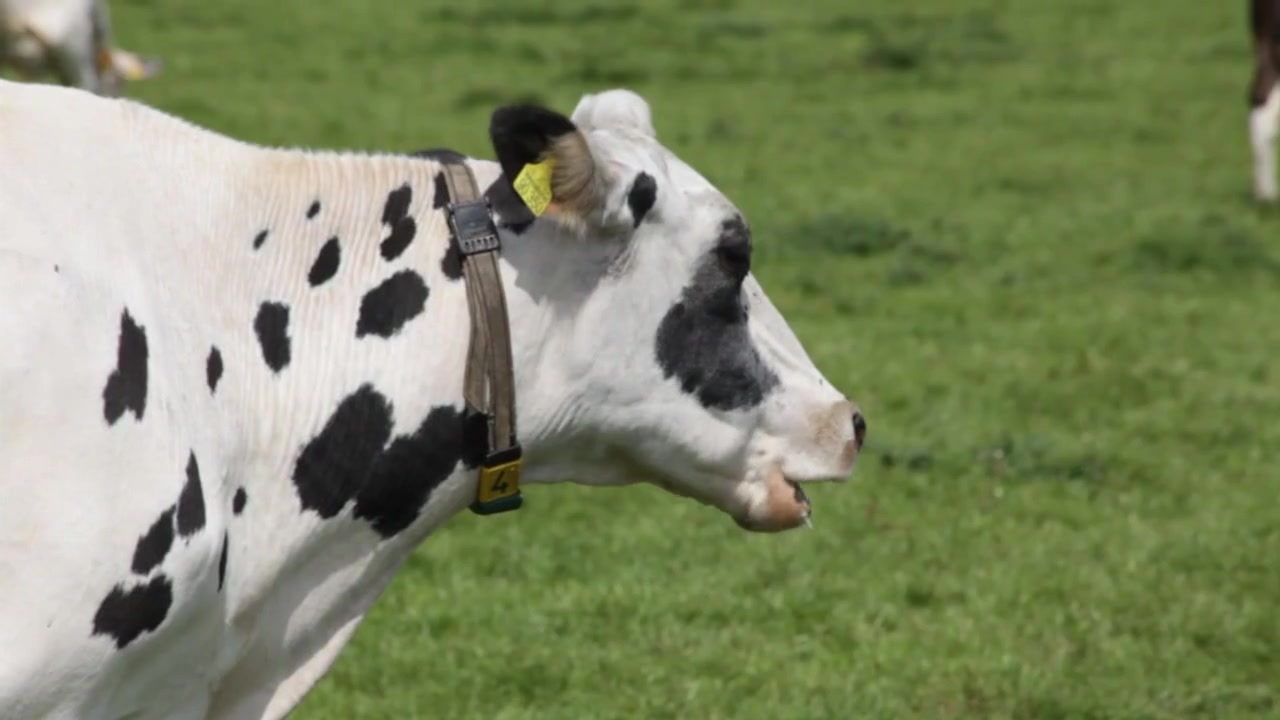cow: (1, 84, 867, 720)
